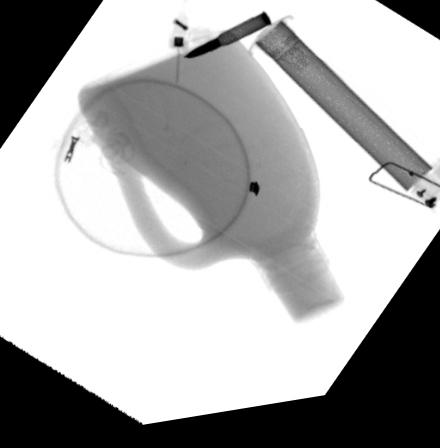Bullet: (181, 18, 273, 64)
